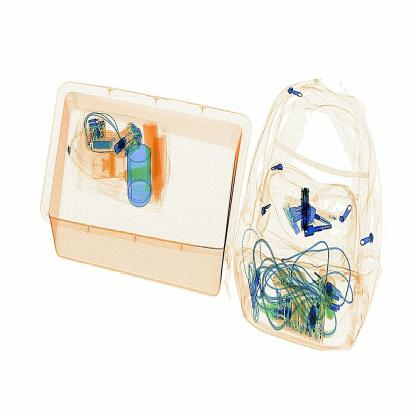scissors: (302, 184, 312, 238)
